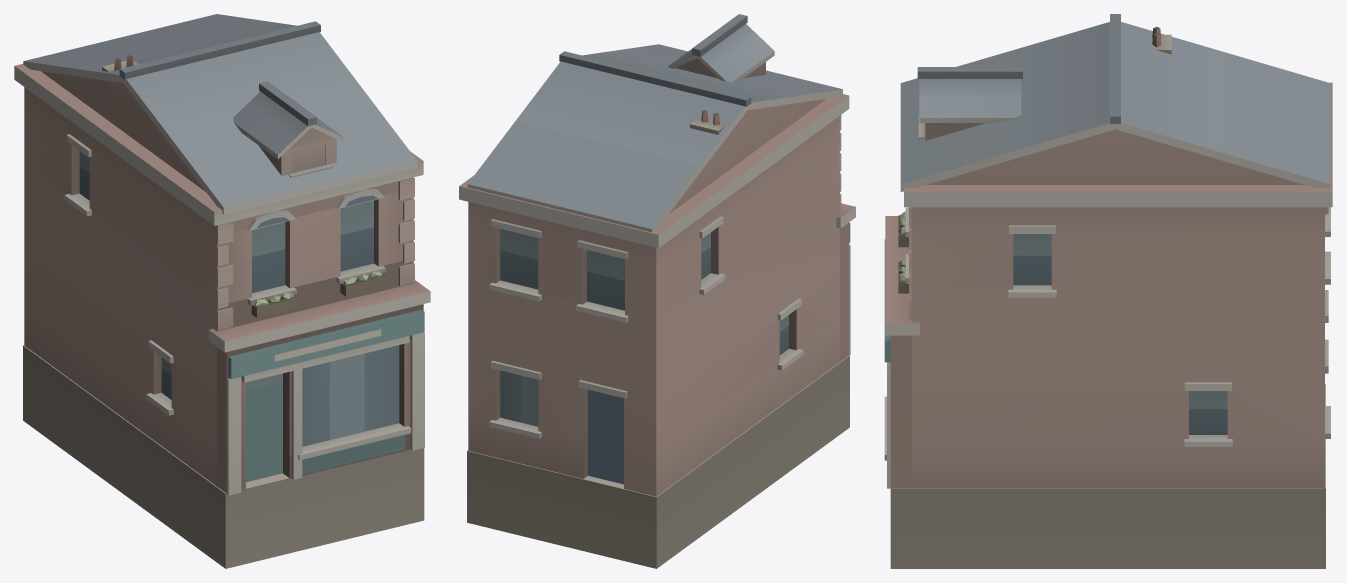
Rendered from terrace_c.lod1.glb.
3 views of the same model, side by side, from view 1: azimuth 30°, elevation 25°; view 2: azimuth 150°, elevation 25°; view 3: azimuth 270°, elevation 25° (orthographic). The views are drawn at different scales.
Bounding box in the file's own units: 4.72 × 9.07 × 8.15.
